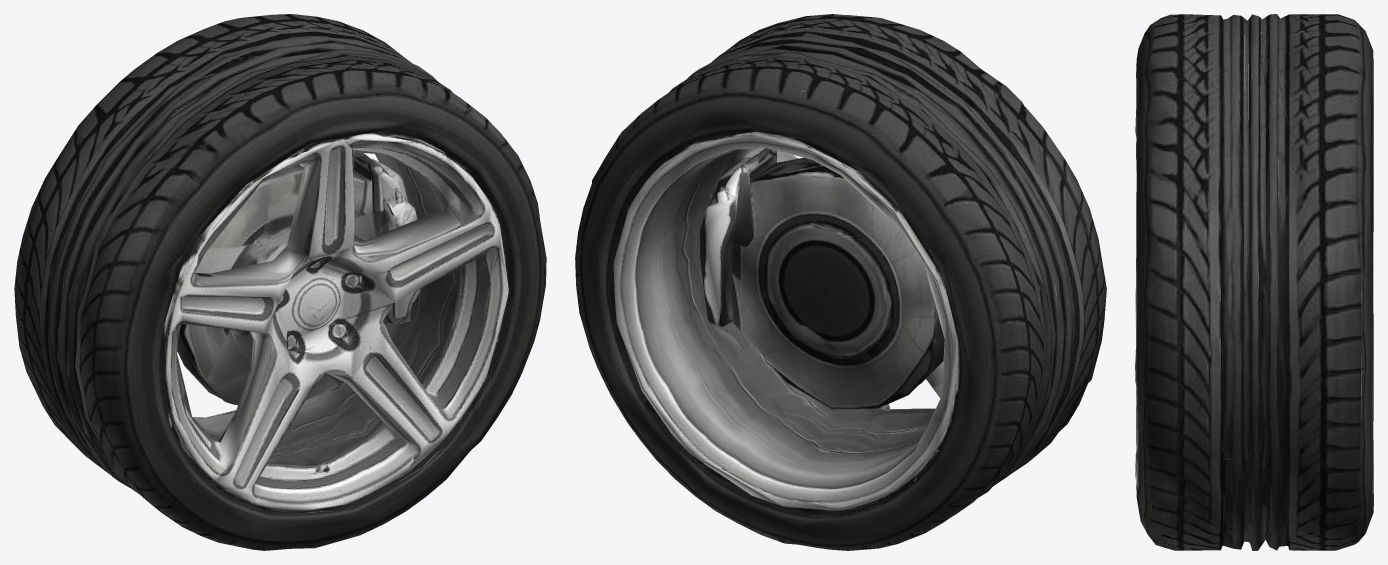
Rendered from wheel.glb.
3 views of the same model, side by side, from view 1: azimuth 30°, elevation 25°; view 2: azimuth 150°, elevation 25°; view 3: azimuth 270°, elevation 25° (orthographic). The views are drawn at different scales.
Visible parts, largest first — view 1: Mesh_0; view 2: Mesh_0; view 3: Mesh_0.
Part boxes in pixels (x1,y1,x2,y2): Mesh_0: [14, 14, 546, 550]; Mesh_0: [575, 14, 1106, 550]; Mesh_0: [1135, 14, 1373, 550].
Size of the model in its own units: 1.9 by 1.9 by 0.8396.
Materials: 1 (1 with a texture image).
